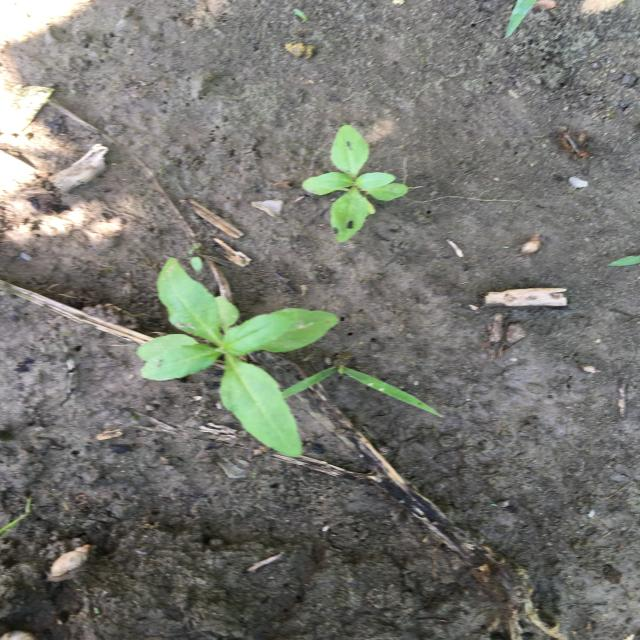Eclipta: (134, 255, 342, 460), (299, 123, 410, 245)
